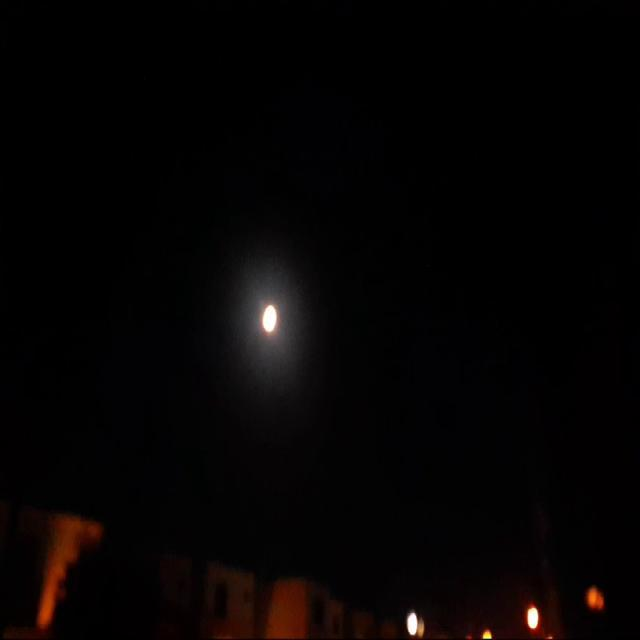moon: (252, 296, 274, 335)
